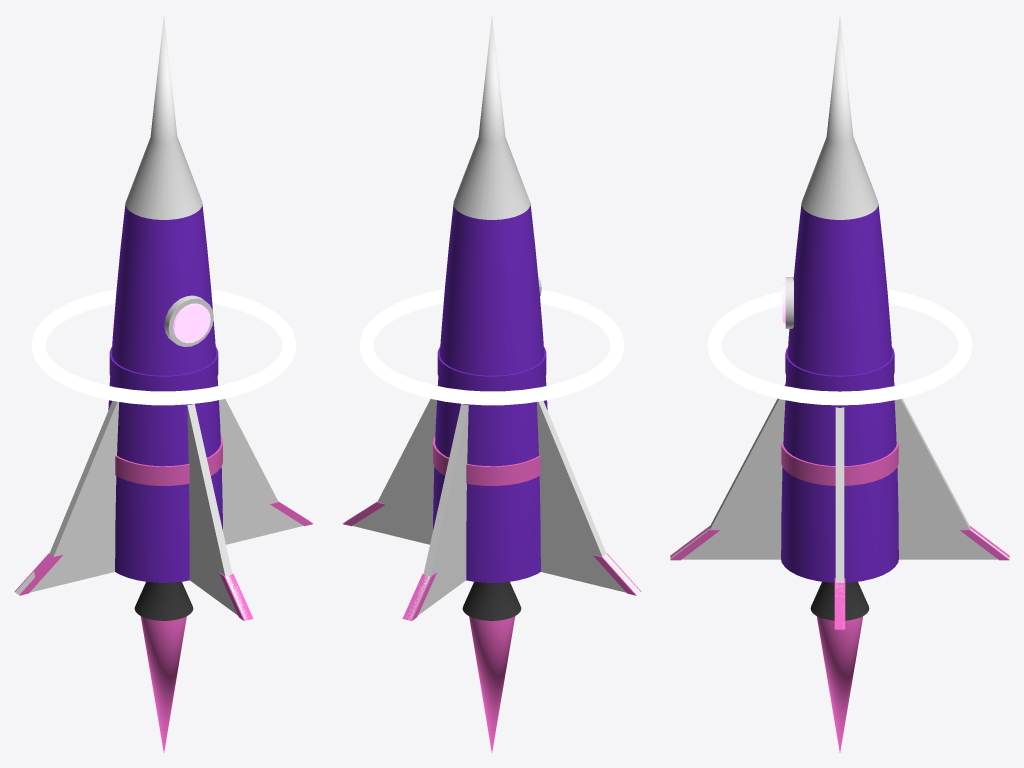
File: Rocket_39_NebulaLance.fbx
3 views of the same model, side by side, from view 1: azimuth 30°, elevation 25°; view 2: azimuth 150°, elevation 25°; view 3: azimuth 270°, elevation 25° (orthographic).
Parts seen in each view (by area): view 1: R39_Body, R39_Fin_2, R39_Halo_1, R39_Nose, R39_Fin_4, R39_Fin_3, R39_Flame_1, R39_Band_2, R39_Band_1, R39_Nozzle_1, R39_Window_1, R39_WindowFrame_1 (+2 smaller); view 2: R39_Body, R39_Fin_2, R39_Halo_1, R39_Nose, R39_Fin_4, R39_Fin_1, R39_Flame_1, R39_Band_2, R39_Band_1, R39_Nozzle_1, R39_FinGlow_1; view 3: R39_Body, R39_Fin_1, R39_Fin_3, R39_Halo_1, R39_Nose, R39_Flame_1, R39_Band_1, R39_Band_2, R39_Fin_4, R39_Nozzle_1, R39_FinGlow_4.
Boxes of the visible parts, box(x1,y1,x2,y2) form: R39_Body: box(108, 203, 222, 582); R39_Fin_2: box(15, 401, 119, 594); R39_Halo_1: box(31, 289, 296, 405); R39_Nose: box(125, 16, 202, 219); R39_Fin_4: box(218, 385, 303, 544); R39_Fin_3: box(187, 404, 247, 620); R39_Flame_1: box(140, 616, 186, 752); R39_Band_2: box(109, 347, 218, 391); R39_Band_1: box(115, 436, 222, 485); R39_Nozzle_1: box(134, 581, 193, 620); R39_Window_1: box(173, 303, 210, 343); R39_WindowFrame_1: box(164, 295, 213, 346); R39_Body: box(433, 203, 547, 582); R39_Fin_2: box(536, 401, 640, 594); R39_Halo_1: box(359, 289, 624, 405); R39_Nose: box(453, 16, 530, 219); R39_Fin_4: box(345, 385, 437, 544); R39_Fin_1: box(404, 404, 468, 620); R39_Flame_1: box(469, 616, 515, 752); R39_Band_2: box(437, 347, 546, 391); R39_Band_1: box(433, 436, 540, 485); R39_Nozzle_1: box(462, 581, 521, 620); R39_FinGlow_1: box(402, 572, 436, 620); R39_Body: box(781, 204, 898, 582); R39_Fin_1: box(894, 384, 1009, 559); R39_Fin_3: box(670, 384, 785, 559); R39_Halo_1: box(707, 289, 972, 405); R39_Nose: box(801, 16, 878, 219); R39_Flame_1: box(816, 616, 863, 752); R39_Band_1: box(781, 444, 898, 485); R39_Band_2: box(785, 347, 894, 391); R39_Fin_4: box(835, 407, 844, 627); R39_Nozzle_1: box(810, 581, 869, 620); R39_FinGlow_4: box(834, 578, 845, 629).
Size of the model in its own units: 4.86 by 11.7 by 4.86.
